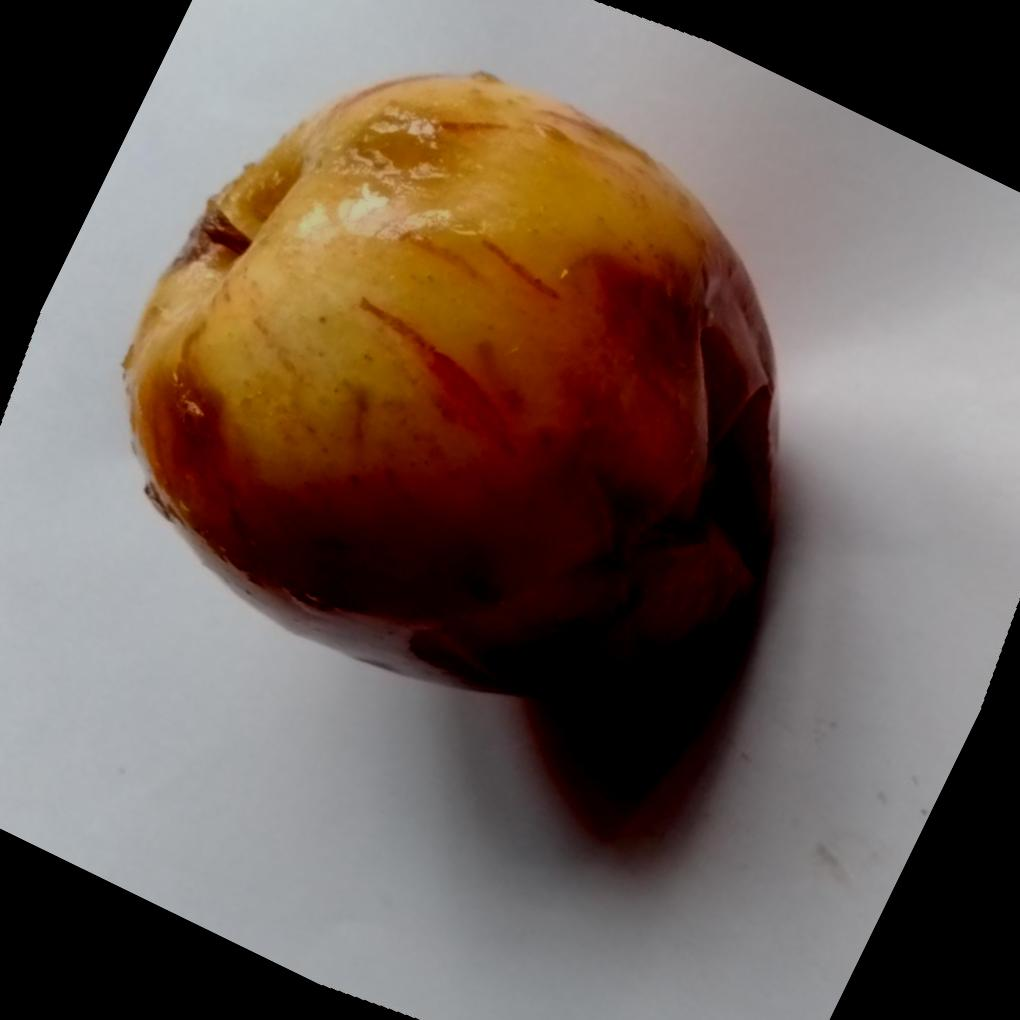FreshOrange: (123, 71, 780, 701)
